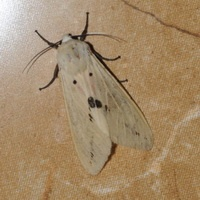insect: (35, 12, 152, 174)
